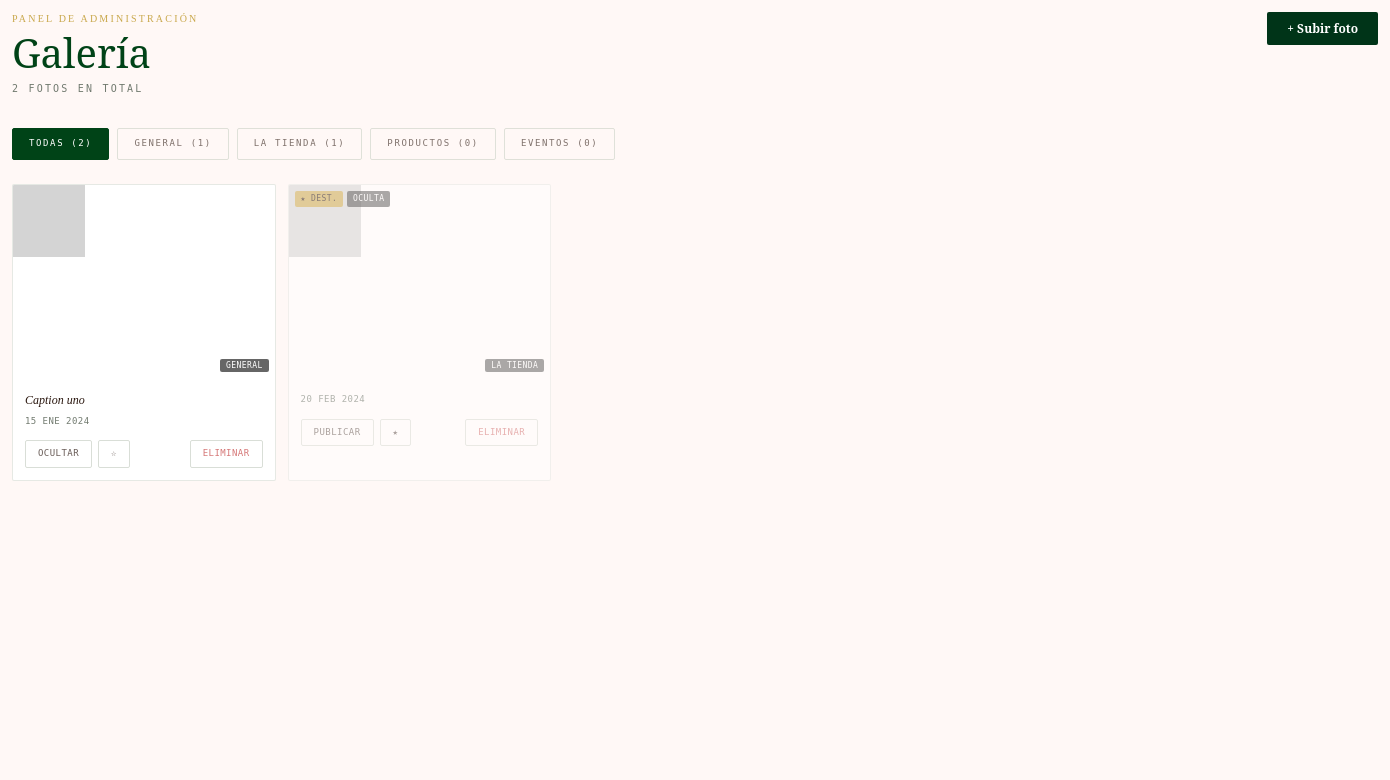
Scenario: AdminGaleriaClient › shows error toast on toggle visible failure
This screenshot has width=1390, height=780.
Click the button "Ocultar".
click(59, 454)  # box [25,440,92,468]
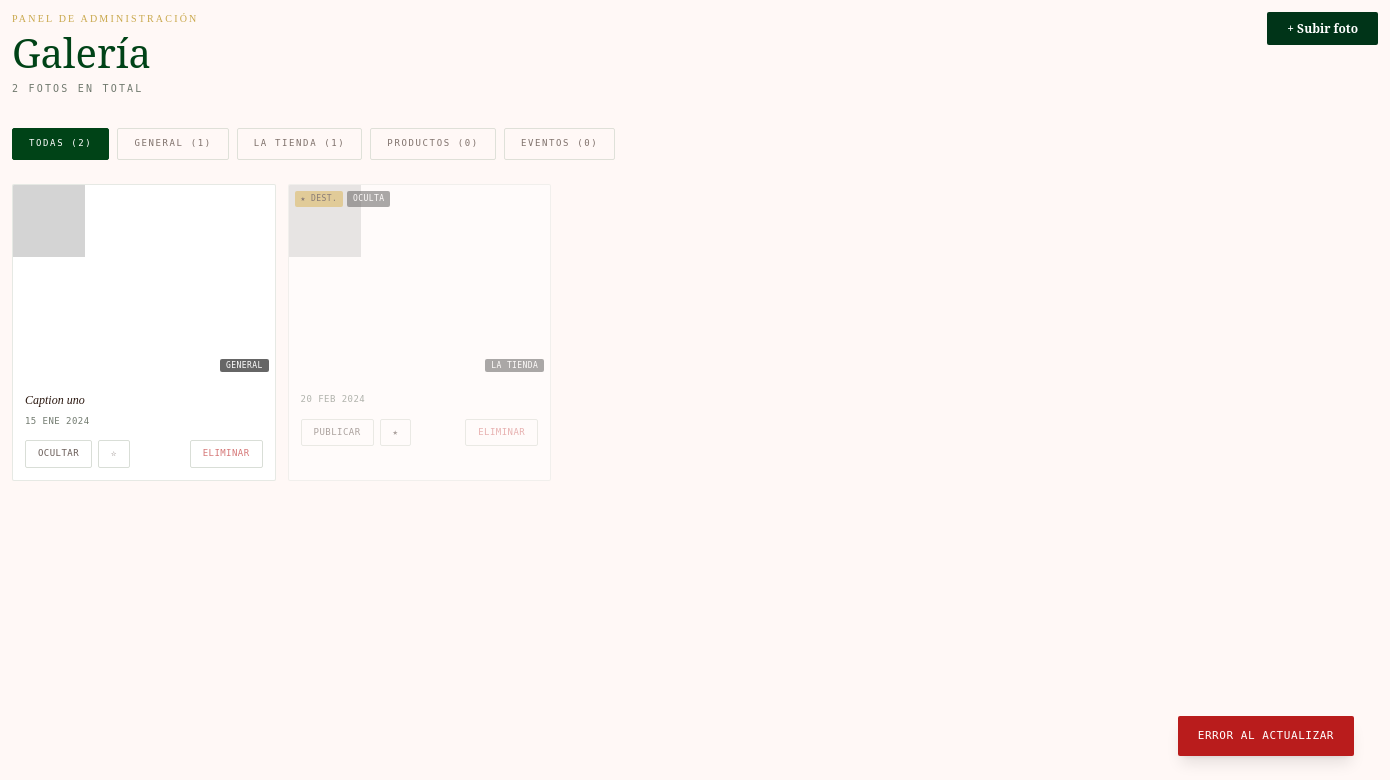
expect the text "Error al actualizar" is shown: met, box [1178,716,1354,756]
